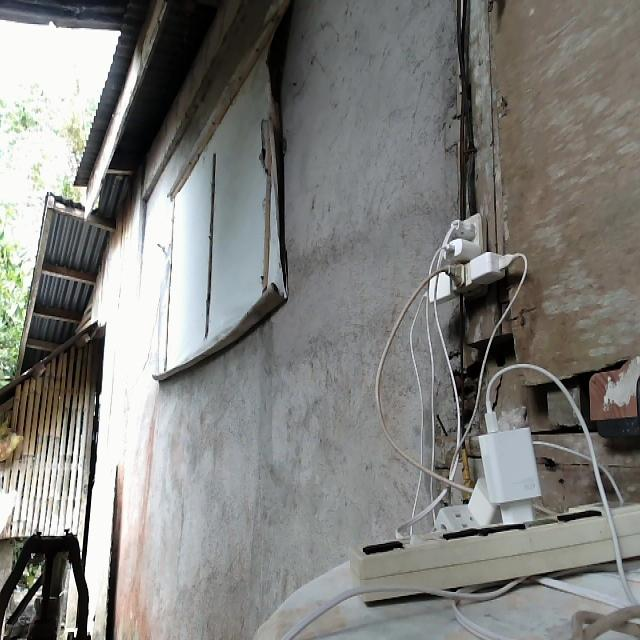-: (420, 209, 512, 304)
